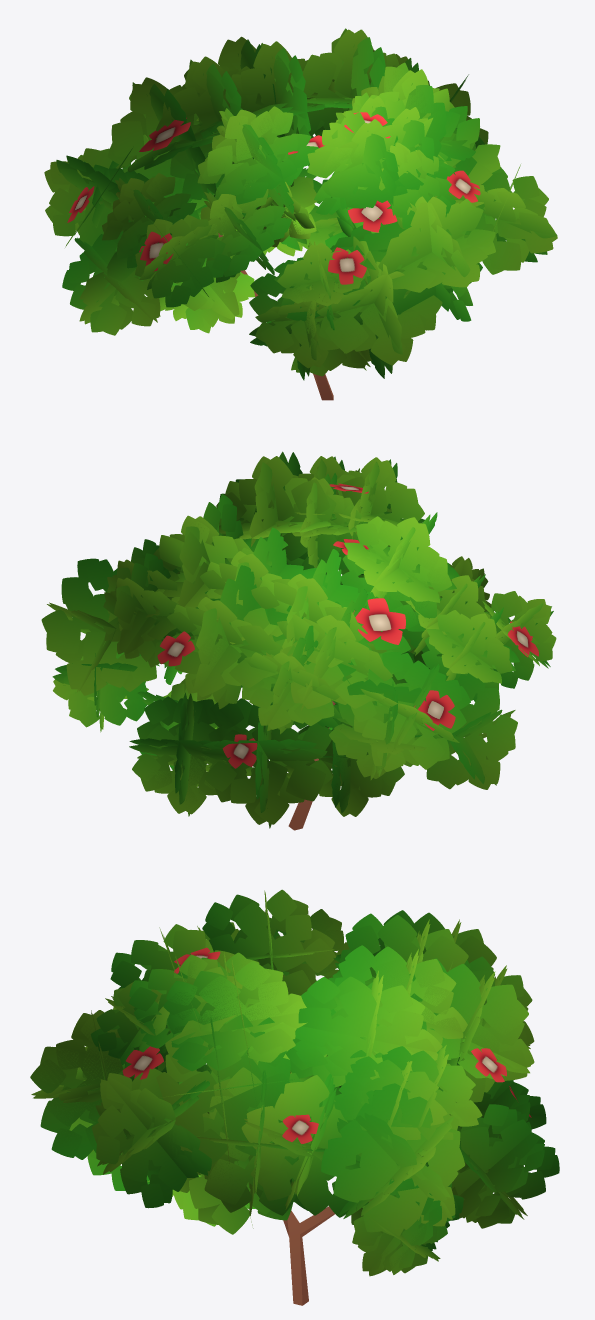
The model's file is TSP_Bush_01C.fbx.
3 renders of one model, top to bottom at view 1: azimuth 30°, elevation 25°; view 2: azimuth 150°, elevation 25°; view 3: azimuth 270°, elevation 25°, orthographic. The views are drawn at different scales.
Parts seen in each view (by area): view 1: TSP_Bush_01C; view 2: TSP_Bush_01C; view 3: TSP_Bush_01C.
Part boxes in pixels (box(x1,y1,x2,y2)): TSP_Bush_01C: box(44, 28, 557, 400); TSP_Bush_01C: box(41, 451, 556, 830); TSP_Bush_01C: box(30, 889, 559, 1305).
Size of the model in its own units: 2.53 by 1.74 by 2.3.
